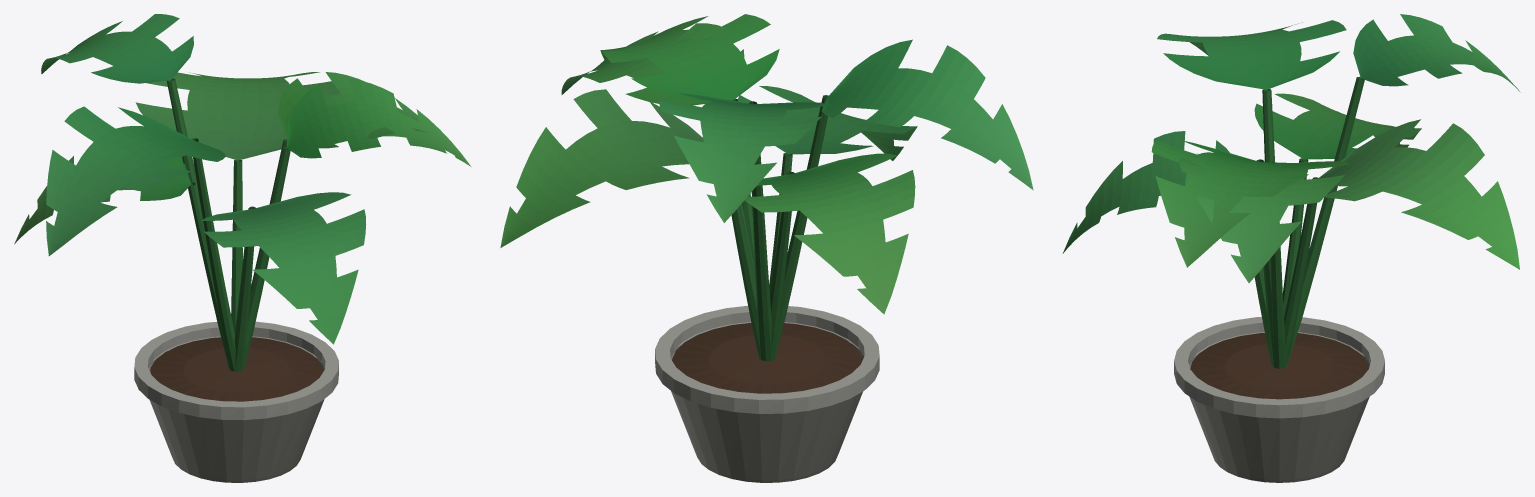
The model's file is monstera-deliciosa.glb.
The picture shows the model from 3 angles, left to right: view 1: azimuth 30°, elevation 25°; view 2: azimuth 150°, elevation 25°; view 3: azimuth 270°, elevation 25°; orthographic projection. The views are drawn at different scales.
Visible parts, largest first — view 1: monstera-deliciosa; view 2: monstera-deliciosa; view 3: monstera-deliciosa.
Part boxes in pixels (bbox=[...]): monstera-deliciosa: bbox=[14, 14, 470, 482]; monstera-deliciosa: bbox=[500, 14, 1033, 482]; monstera-deliciosa: bbox=[1062, 14, 1520, 482].
Bounding box in the file's own units: 0.548 × 0.4718 × 0.5066.
1 material, 1 textured.
